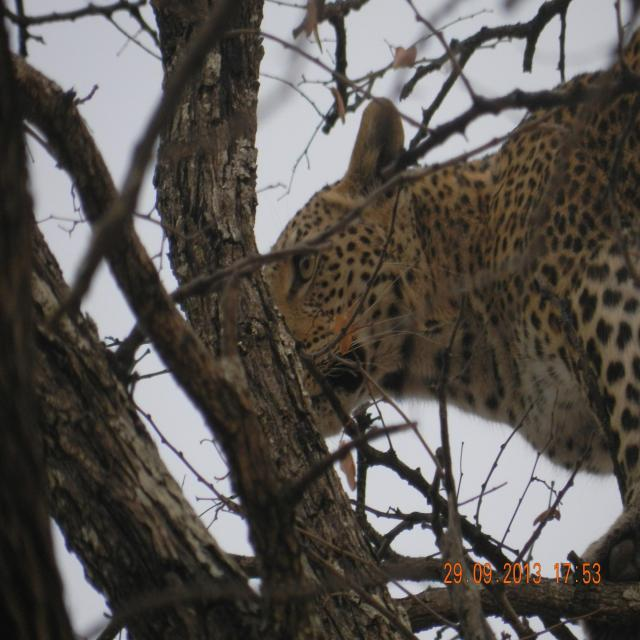Leopard: (243, 23, 620, 624)
